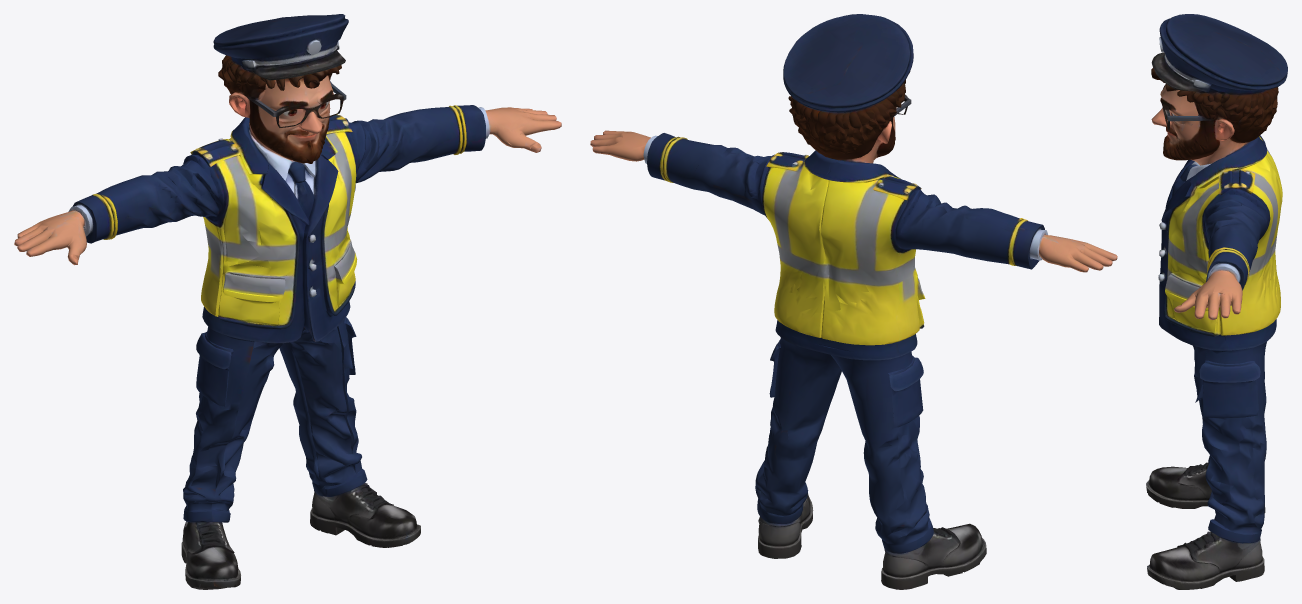
The model's file is charStationWorker.glb.
3 views of the same model, side by side, from view 1: azimuth 30°, elevation 25°; view 2: azimuth 150°, elevation 25°; view 3: azimuth 270°, elevation 25° (orthographic). The views are drawn at different scales.
Visible parts, largest first — view 1: model; view 2: model; view 3: model.
Part boxes in pixels (bbox=[...]): model: bbox=[14, 14, 561, 589]; model: bbox=[590, 14, 1117, 589]; model: bbox=[1146, 14, 1287, 589].
Size of the model in its own units: 1.89 by 1.82 by 0.4527.
Materials: 1 (1 with a texture image).
